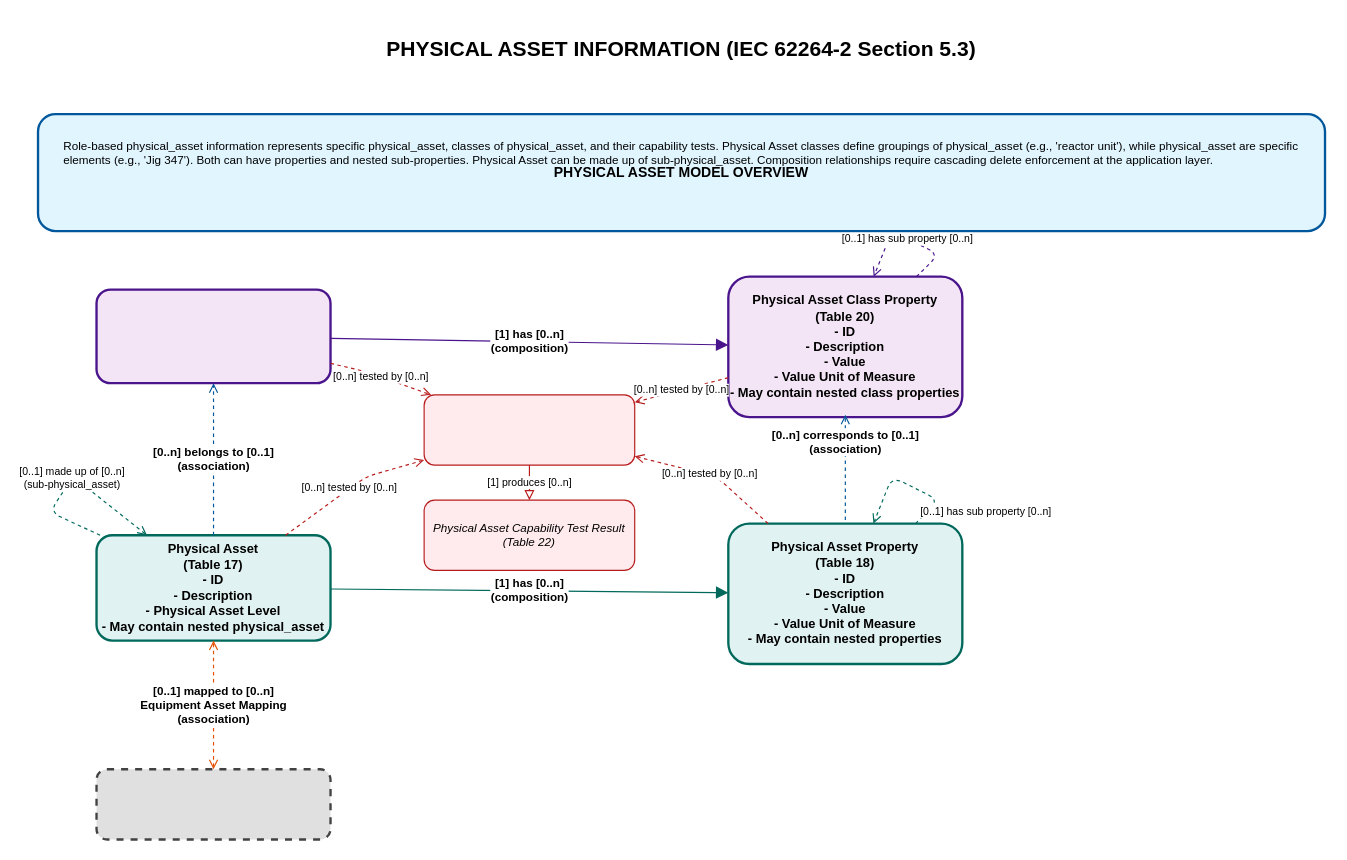
Some shapes in this 1347 by 860 pixel diagram are drawn without their labels. The centre of each missing label's shape, as x and y in pixels:
"Equipment (Role-Based) (See Section 5.2)" goes at point (213, 804).
"Physical Asset Capability Test Specification (Table 21)" goes at point (529, 429).
"Physical Asset Class (Table 19) - ID - Description - Physical Asset Level" goes at point (213, 336).
